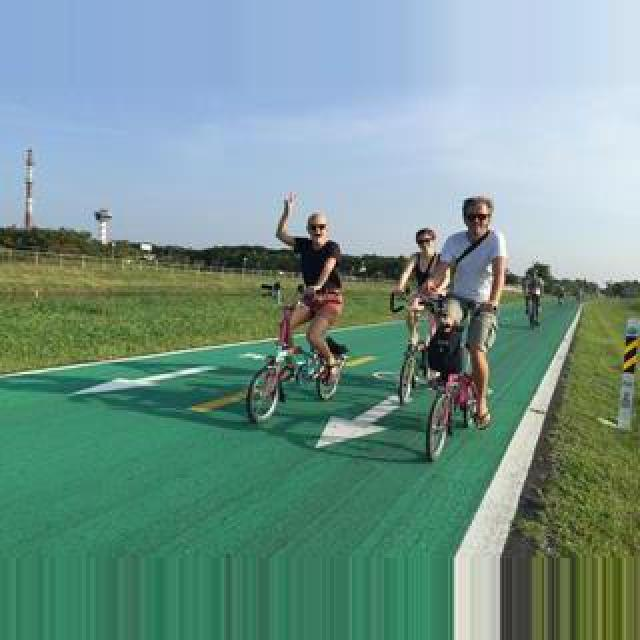MC-Bike: (430, 194, 508, 420), (272, 194, 346, 398), (390, 226, 450, 394), (522, 266, 544, 324)
Person: (246, 280, 350, 424), (424, 318, 484, 462), (394, 292, 450, 408), (526, 298, 540, 330)
